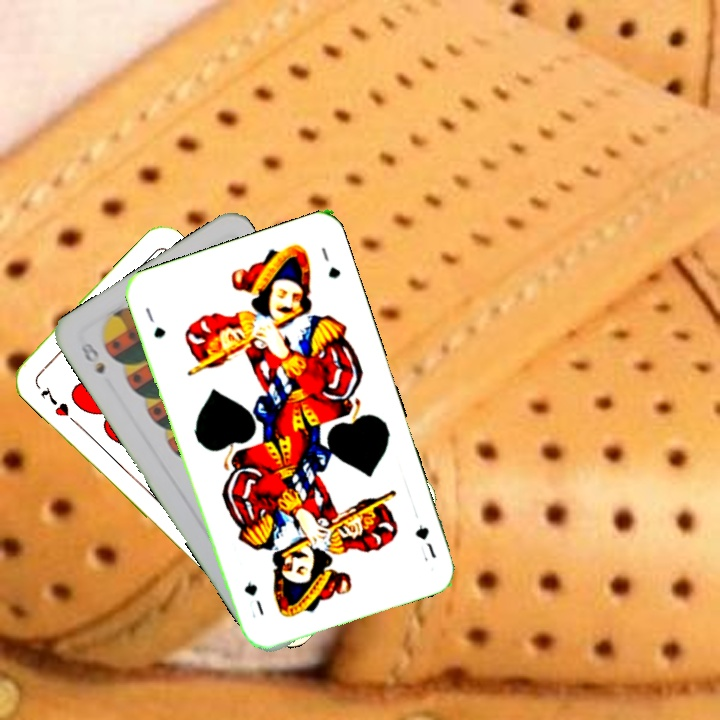GU: (411, 521, 439, 561), (141, 303, 169, 341)
H7: (36, 382, 79, 426)
S8: (76, 338, 108, 377)
